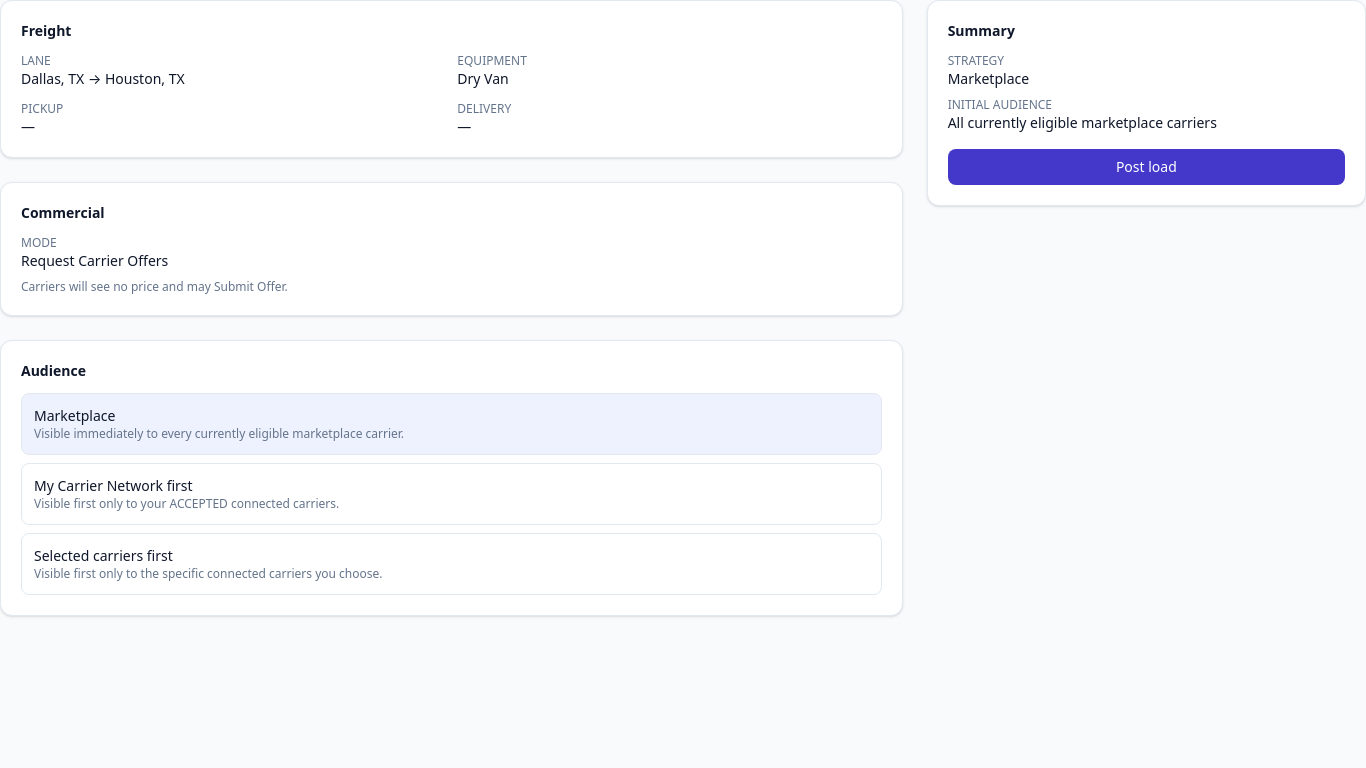
ReviewPostForm › a zero-eligible-audience preview blocks posting with a truthful message
Click the button "My Carrier Network first": (113, 486) [21, 463, 882, 525]
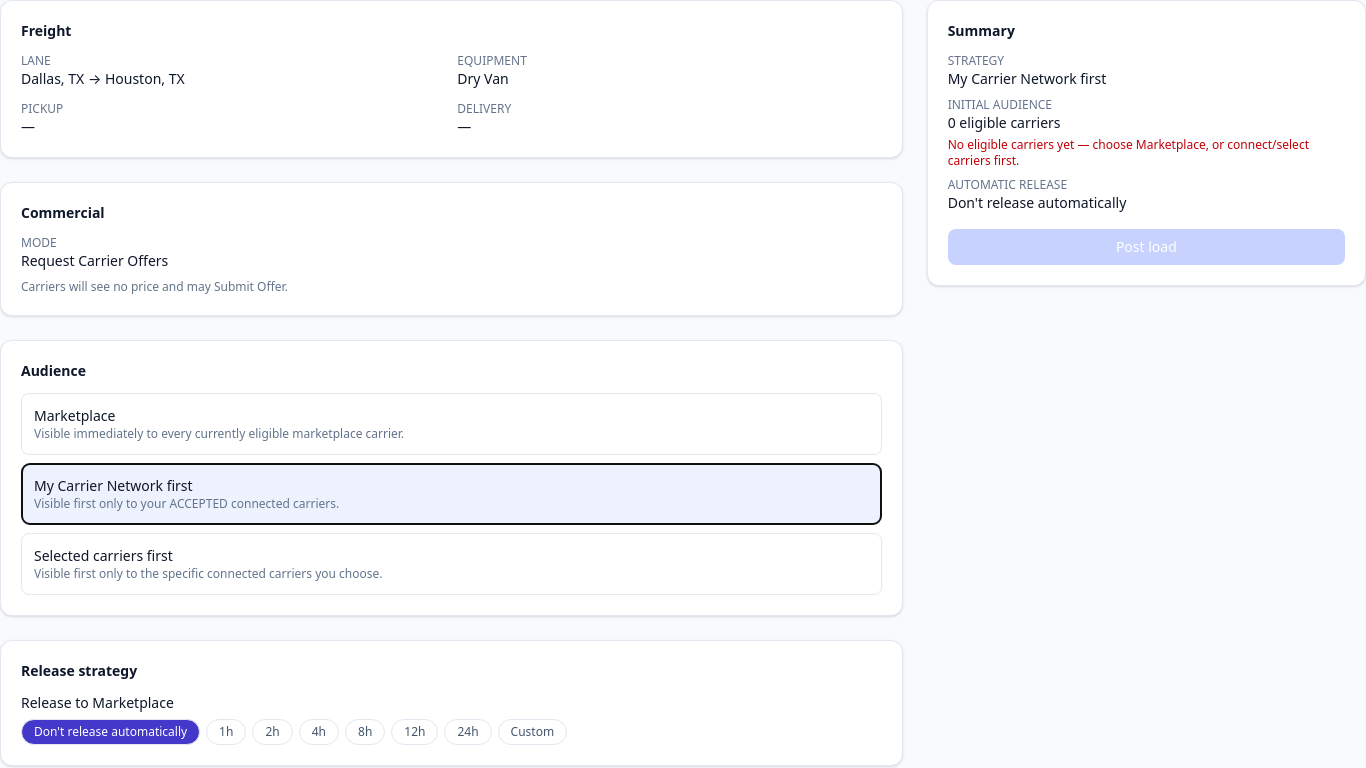
Check: the text "No eligible carriers yet — choose Marketplace, or connect/select carriers first." is shown, box [948, 137, 1345, 169]
Check: the button "Post load" is disabled, box [948, 229, 1345, 265]
